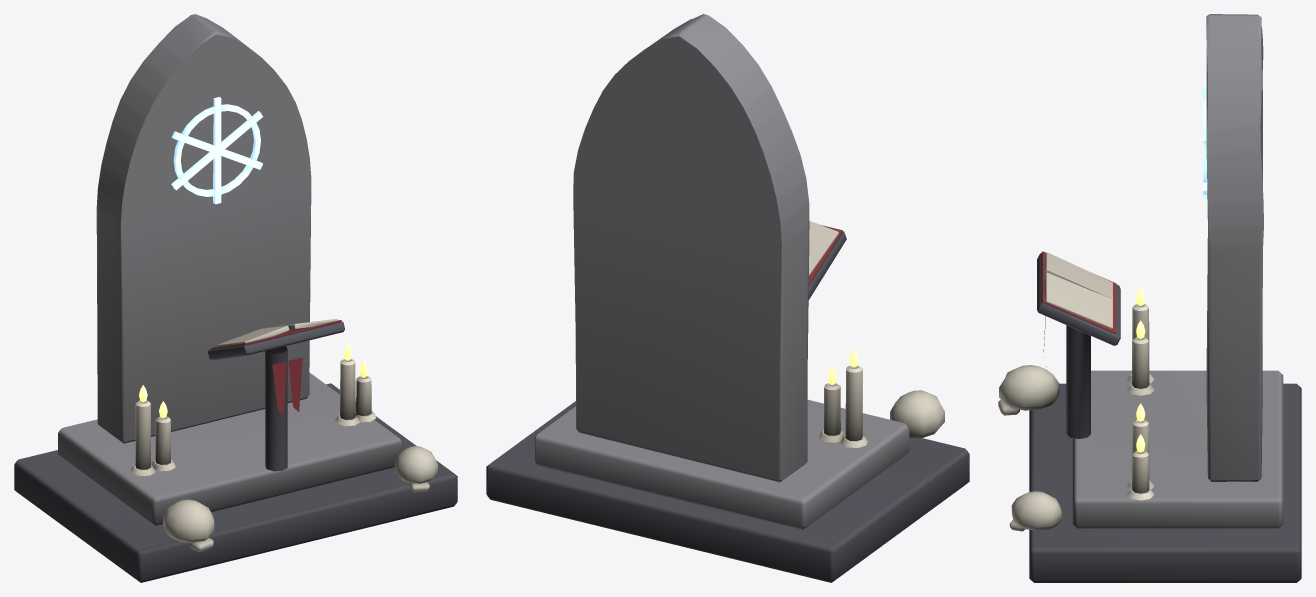
The model's file is place_shrine.glb.
3 views of the same model, side by side, from view 1: azimuth 30°, elevation 25°; view 2: azimuth 150°, elevation 25°; view 3: azimuth 270°, elevation 25° (orthographic). The views are drawn at different scales.
Visible parts, largest first — view 1: place_shrine; view 2: place_shrine; view 3: place_shrine.
Part boxes in pixels (x1,y1,x2,y2): place_shrine: (14, 14, 457, 582); place_shrine: (486, 14, 969, 582); place_shrine: (998, 14, 1301, 582).
Bounding box in the file's own units: 1.6 × 2.16 × 1.22.
